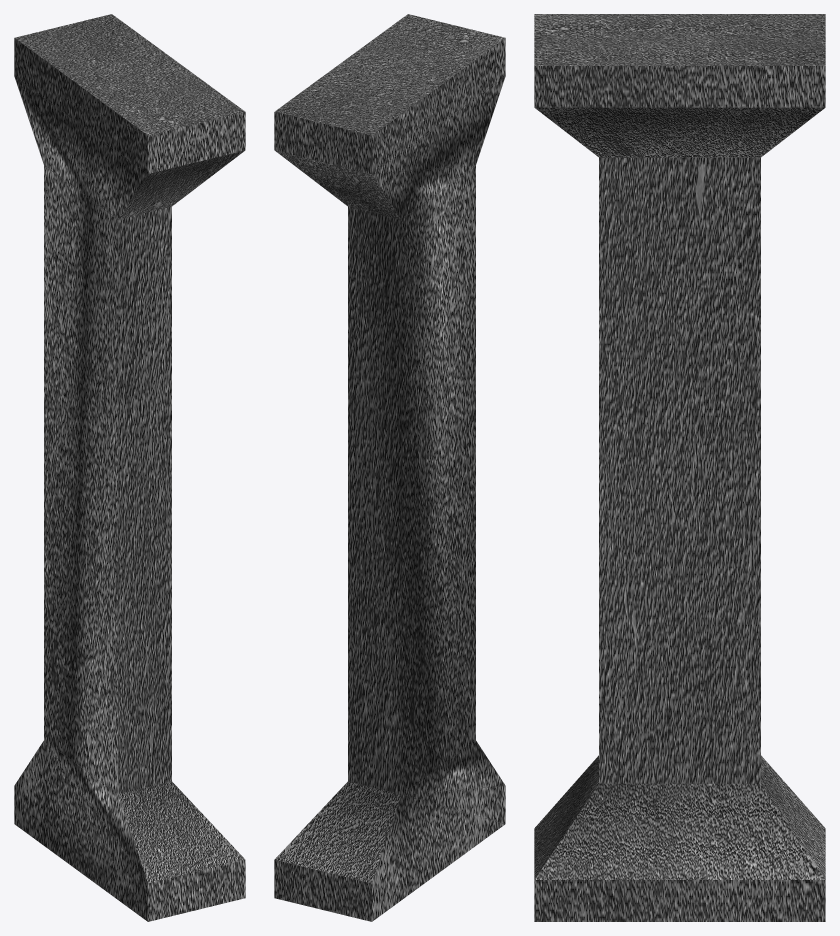
The model's file is Pillar_Proper.fbx.
The picture shows the model from 3 angles, left to right: view 1: azimuth 30°, elevation 25°; view 2: azimuth 150°, elevation 25°; view 3: azimuth 270°, elevation 25°; orthographic projection. The views are drawn at different scales.
Visible parts, largest first — view 1: Cube.001; view 2: Cube.001; view 3: Cube.001.
Part boxes in pixels (box(x1,y1,x2,y2)): Cube.001: box(14, 14, 245, 921); Cube.001: box(274, 14, 505, 921); Cube.001: box(534, 14, 825, 921).
Bounding box in the file's own units: 152 × 1168 × 360.
